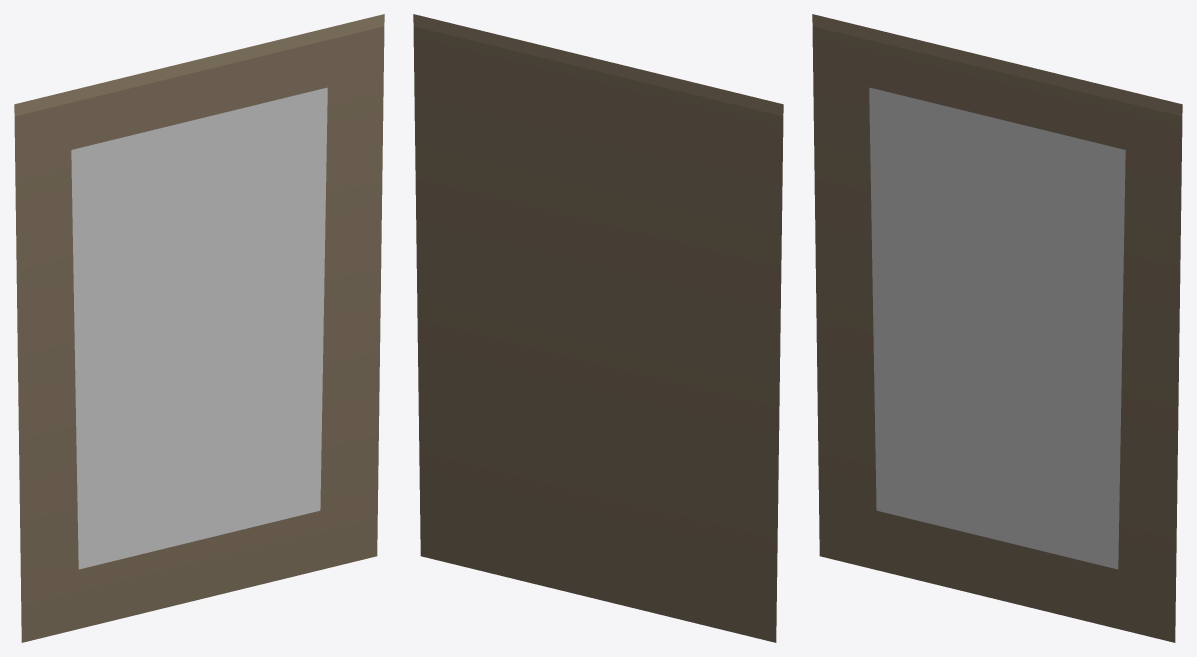
Rendered from menuSign_0.glb.
3 views of the same model, side by side, from view 1: azimuth 30°, elevation 25°; view 2: azimuth 150°, elevation 25°; view 3: azimuth 330°, elevation 25° (orthographic).
Parts seen in each view (by area): view 1: menuSign; view 2: menuSign; view 3: menuSign.
Part boxes in pixels (x1,y1,x2,y2): menuSign: (14,14,384,642); menuSign: (413,14,783,642); menuSign: (812,14,1182,642).
Bounding box in the file's own units: 0.4854 × 0.6771 × 0.000149.
